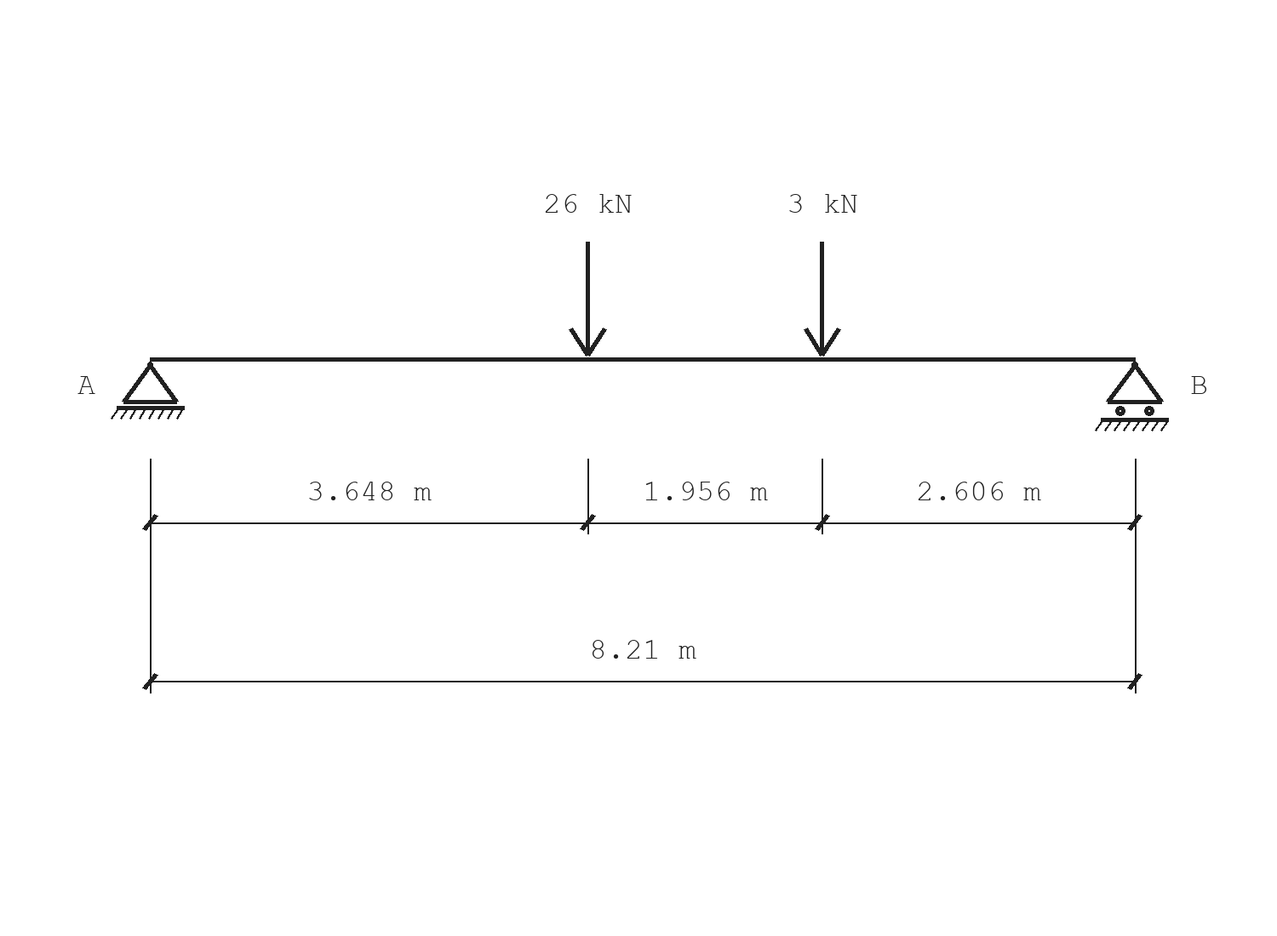pin_support: (111, 362, 185, 419)
point_load: (569, 242, 607, 357), (804, 242, 841, 357)
roller_support: (1095, 362, 1169, 431)
